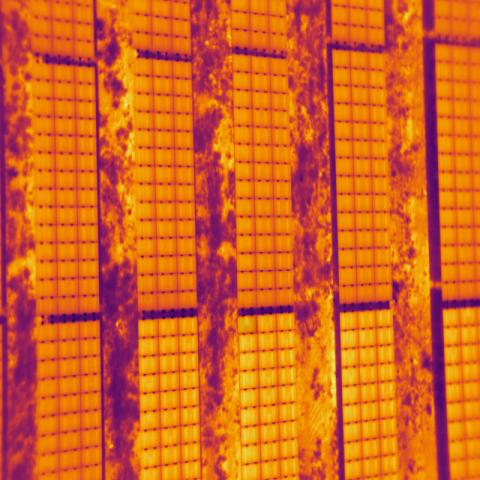fault: (238, 316, 258, 334)
